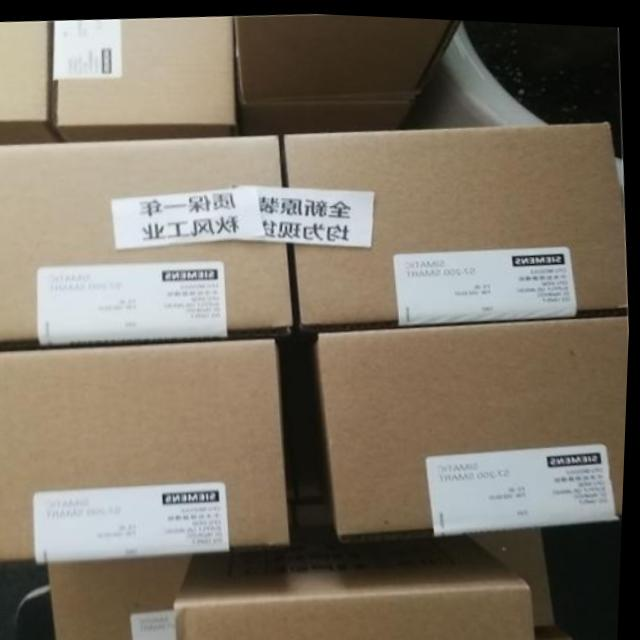box: (284, 116, 629, 322), (317, 311, 631, 534), (0, 336, 294, 563), (0, 131, 294, 345), (178, 530, 542, 640), (54, 14, 236, 140), (234, 11, 459, 100), (50, 552, 195, 640), (0, 20, 56, 142)
